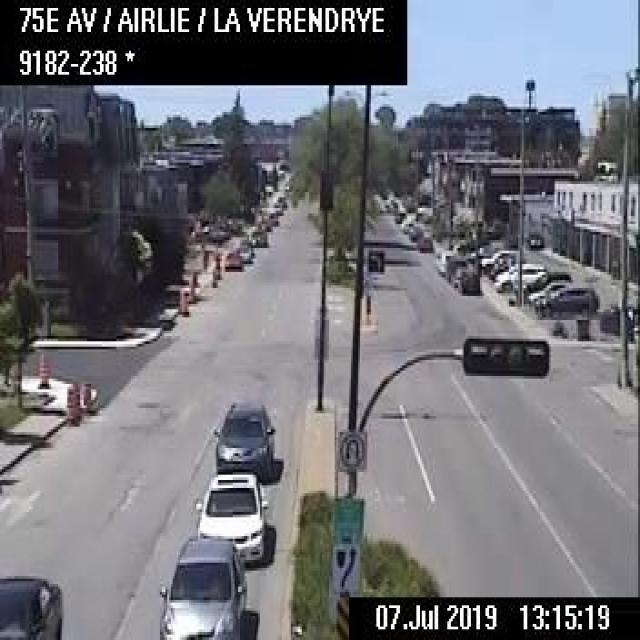construction: (64, 384, 76, 422), (36, 349, 48, 384), (177, 285, 189, 315), (189, 268, 200, 299), (78, 375, 88, 408), (213, 256, 220, 277), (200, 248, 207, 267)
vehicle: (156, 530, 246, 638), (194, 471, 266, 567), (210, 398, 273, 480), (0, 574, 62, 638), (532, 284, 598, 317), (492, 261, 546, 291), (526, 280, 570, 305), (479, 248, 515, 270), (445, 258, 466, 286), (456, 268, 478, 291), (436, 247, 453, 273), (247, 228, 267, 246), (235, 240, 251, 262), (415, 232, 432, 252), (222, 249, 239, 267), (408, 222, 422, 240)
